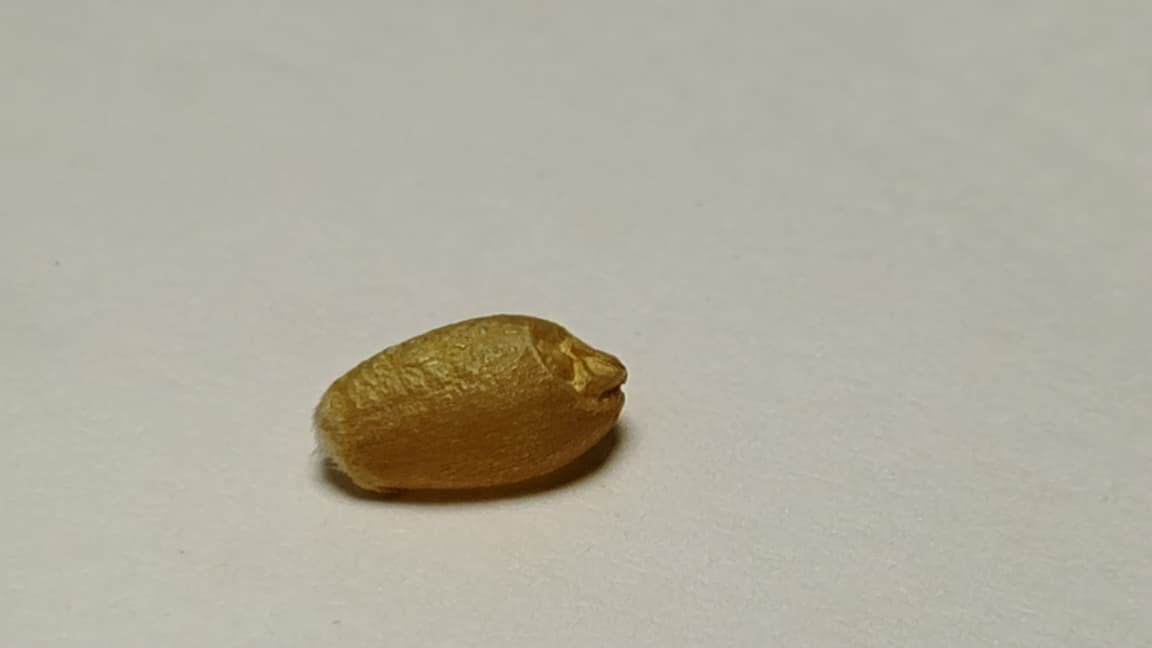healthy: (318, 313, 625, 488)
